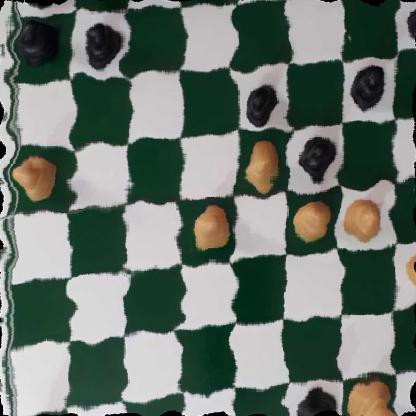black-bishop: (295, 381, 339, 416)
black-king: (183, 0, 233, 2)
black-pawn: (17, 12, 62, 72), (81, 12, 118, 70), (240, 74, 281, 126), (347, 64, 387, 114), (299, 130, 338, 181), (406, 0, 416, 46)
black-rook: (11, 0, 64, 8)
white-king: (347, 375, 396, 416)
white-pawn: (342, 188, 386, 243), (19, 151, 62, 205), (242, 140, 282, 190), (293, 195, 332, 244), (192, 203, 229, 254), (405, 245, 416, 301)
